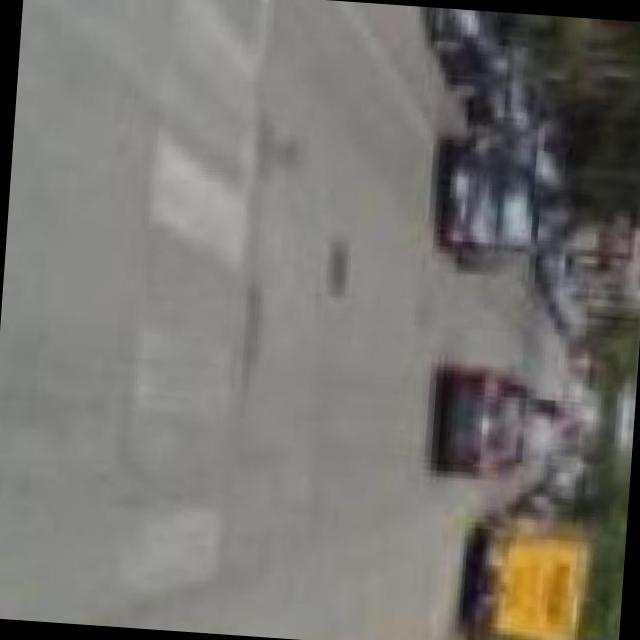zebra: (110, 0, 281, 624)
